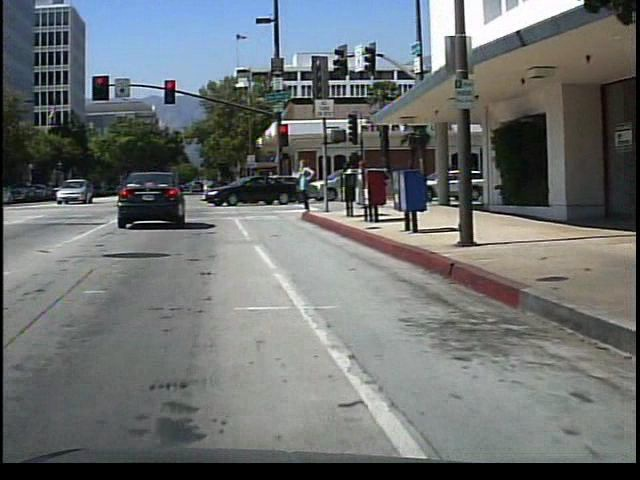person: (296, 152, 322, 217), (344, 155, 364, 208), (358, 154, 377, 209)
